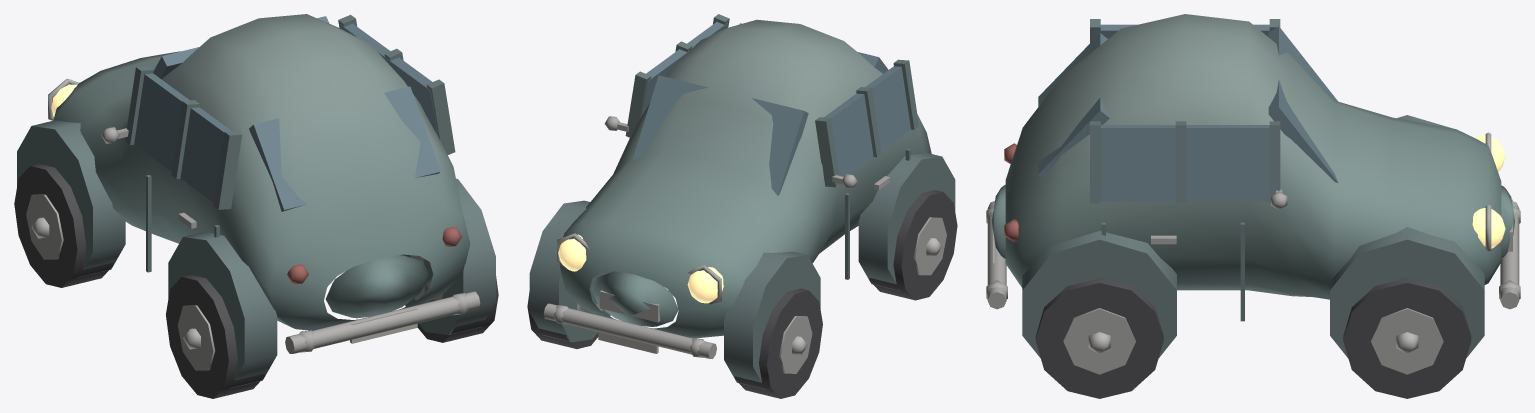
File: car.glb
3 views of the same model, side by side, from view 1: azimuth 30°, elevation 25°; view 2: azimuth 150°, elevation 25°; view 3: azimuth 270°, elevation 25° (orthographic). The views are drawn at different scales.
Parts seen in each view (by area): view 1: car; view 2: car; view 3: car.
Part boxes in pixels (bbox=[...]): car: bbox=[14, 14, 498, 398]; car: bbox=[527, 14, 957, 398]; car: bbox=[986, 14, 1520, 398].
Bounding box in the file's own units: 1.41 × 1.37 × 2.2.
